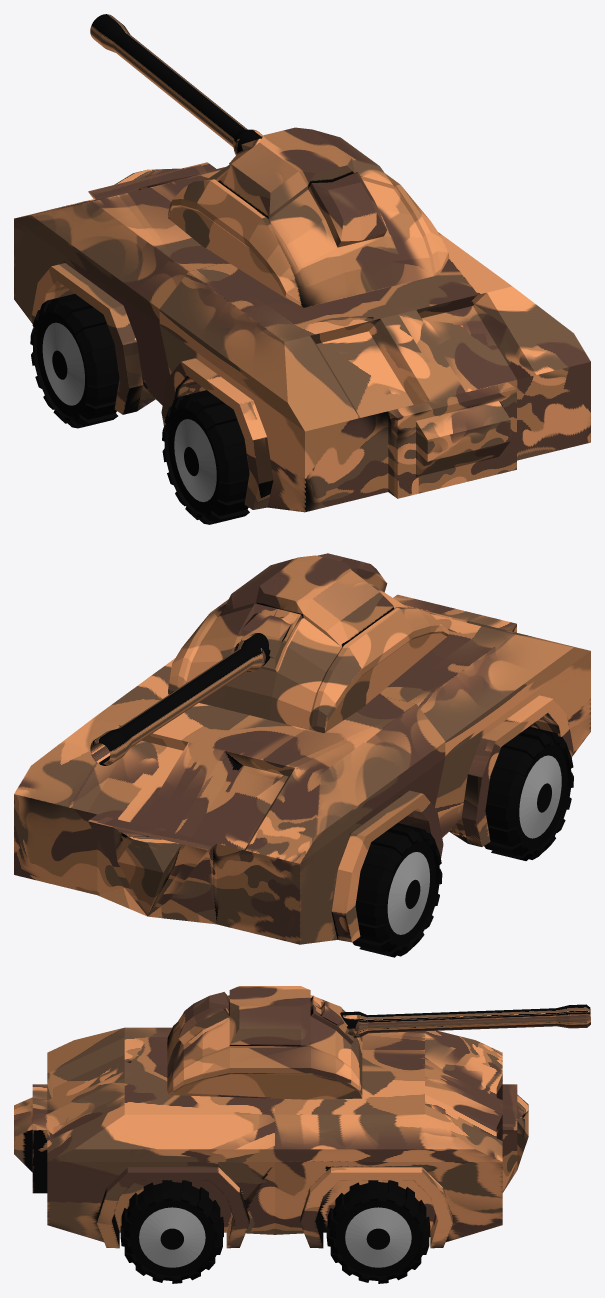
The model's file is basic_tank.gltf.
The picture shows the model from 3 angles, top to bottom: view 1: azimuth 30°, elevation 25°; view 2: azimuth 150°, elevation 25°; view 3: azimuth 270°, elevation 25°; orthographic projection. The views are drawn at different scales.
Parts seen in each view (by area): view 1: Cube, Plane, Cylinder, Cylinder.001, Cylinder.002; view 2: Cube, Plane, Cylinder.001, Cylinder, Cylinder.002; view 3: Cube, Plane, Cylinder, Cylinder.001, Cylinder.002.
Part boxes in pixels (x1,y1,x2,y2): Cube: [14, 162, 590, 512]; Plane: [168, 127, 449, 307]; Cylinder: [30, 294, 119, 428]; Cylinder.001: [162, 390, 249, 524]; Cylinder.002: [90, 14, 263, 154]; Cube: [14, 594, 590, 944]; Plane: [168, 553, 449, 733]; Cylinder.001: [484, 726, 573, 860]; Cylinder: [352, 823, 442, 957]; Cylinder.002: [90, 633, 270, 765]; Cube: [14, 1027, 528, 1248]; Plane: [167, 986, 362, 1099]; Cylinder: [326, 1180, 430, 1283]; Cylinder.001: [120, 1180, 223, 1283]; Cylinder.002: [340, 1004, 590, 1037].
Size of the model in its own units: 4.7 by 3.54 by 8.38.
Materials: 6 (3 with a texture image).
